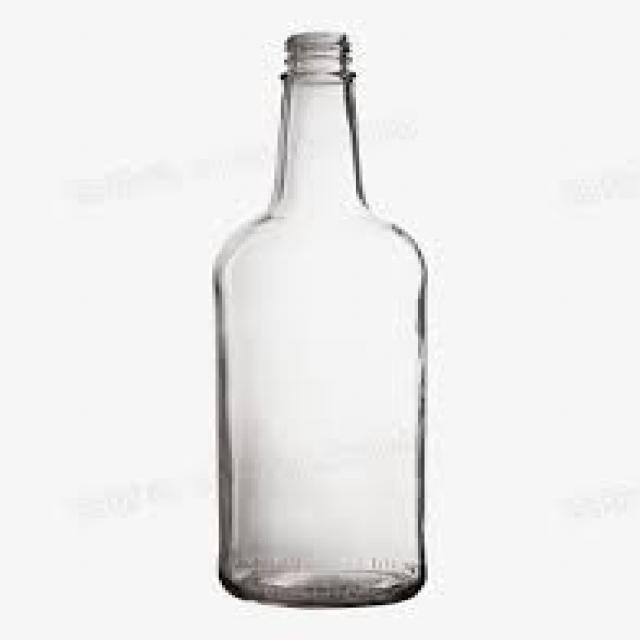Glass-Non-Biodegradable but Recyclable-: (209, 31, 427, 605)
